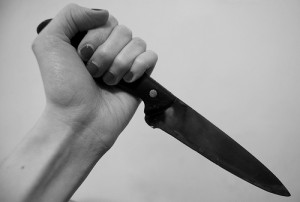knife: (84, 27, 293, 200)
